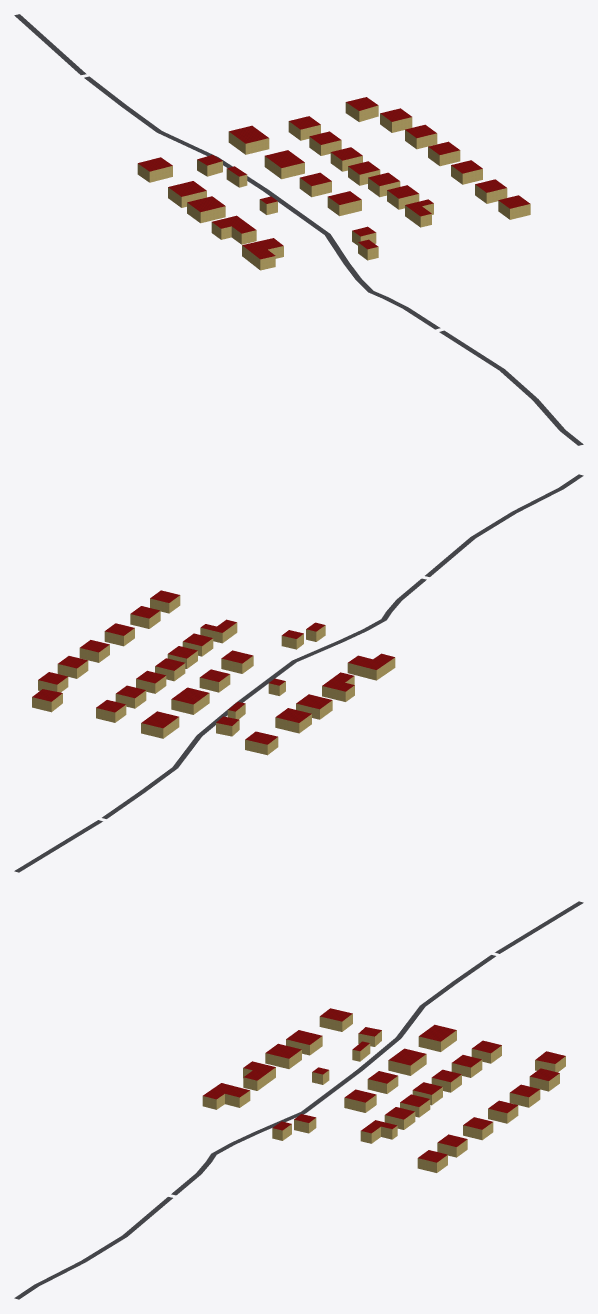
File: district_-2_0.glb
3 views of the same model, one above another, from view 1: azimuth 30°, elevation 25°; view 2: azimuth 150°, elevation 25°; view 3: azimuth 330°, elevation 25° (orthographic). The views are drawn at different scales.
Parts seen in each view (by area): view 1: Road улица Маршака, Building w44036325, Building w44036345, Building w44036414, Building w44036385, Building w44036370, Building w44036381, Building w44036410, Building w44036350, Building w382683837, Building w44036328, Building w44036383 (+10 smaller); view 2: Road улица Маршака, Building w44036325, Building w44036414, Building w44036385, Building w44036345, Building w44036381, Building w44036370, Building w44036410, Building w44036350, Building w44036328, Building w44036364, Building w44036383 (+8 smaller); view 3: Road улица Маршака, Building w44036325, Building w44036414, Building w44036385, Building w44036345, Building w44036370, Building w44036381, Building w44036328, Building w44036410, Building w44036350, Building w44036383, Building w44036364 (+8 smaller).
Part boxes in pixels (x1=…): Road улица Маршака: x1=14, y1=14, x2=583, y2=445; Building w44036325: x1=242, y1=238, x2=283, y2=270; Building w44036345: x1=211, y1=215, x2=256, y2=244; Building w44036414: x1=228, y1=125, x2=269, y2=154; Building w44036385: x1=264, y1=150, x2=304, y2=179; Building w44036370: x1=187, y1=196, x2=225, y2=223; Building w44036381: x1=168, y1=181, x2=206, y2=207; Building w44036410: x1=137, y1=157, x2=172, y2=182; Building w44036350: x1=327, y1=191, x2=361, y2=216; Building w382683837: x1=345, y1=97, x2=378, y2=121; Building w44036328: x1=405, y1=199, x2=433, y2=227; Building w44036383: x1=405, y1=124, x2=437, y2=149; Road улица Маршака: x1=14, y1=474, x2=583, y2=872; Building w44036325: x1=347, y1=653, x2=395, y2=680; Building w44036414: x1=141, y1=711, x2=179, y2=738; Building w44036385: x1=171, y1=687, x2=209, y2=714; Building w44036345: x1=322, y1=672, x2=354, y2=701; Building w44036381: x1=275, y1=708, x2=311, y2=733; Building w44036370: x1=296, y1=694, x2=332, y2=719; Building w44036410: x1=245, y1=731, x2=278, y2=755; Building w44036350: x1=221, y1=650, x2=253, y2=673; Building w44036328: x1=200, y1=619, x2=237, y2=643; Building w44036364: x1=199, y1=669, x2=230, y2=692; Building w44036383: x1=57, y1=656, x2=88, y2=678; Road улица Маршака: x1=14, y1=901, x2=583, y2=1299; Building w44036325: x1=202, y1=1083, x2=250, y2=1109; Building w44036414: x1=418, y1=1024, x2=456, y2=1051; Building w44036385: x1=388, y1=1048, x2=426, y2=1075; Building w44036345: x1=243, y1=1061, x2=275, y2=1090; Building w44036370: x1=265, y1=1043, x2=301, y2=1068; Building w44036381: x1=286, y1=1030, x2=322, y2=1055; Building w44036328: x1=360, y1=1120, x2=397, y2=1143; Building w44036410: x1=319, y1=1008, x2=352, y2=1031; Building w44036350: x1=344, y1=1089, x2=376, y2=1112; Building w44036383: x1=509, y1=1084, x2=540, y2=1107; Building w44036364: x1=367, y1=1071, x2=398, y2=1093.
Size of the model in its own units: 185 by 7.5 by 713.
Materials: 3 (3 with a texture image).
